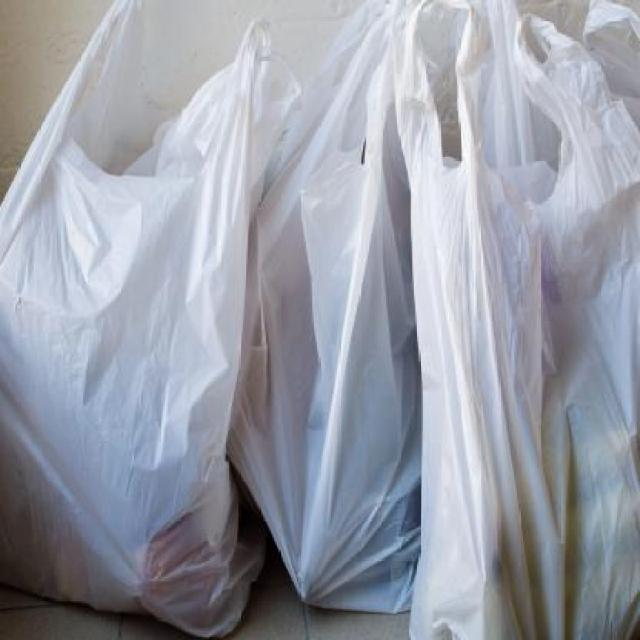plastic bag: (0, 0, 265, 639), (392, 0, 640, 638), (259, 0, 426, 636)
